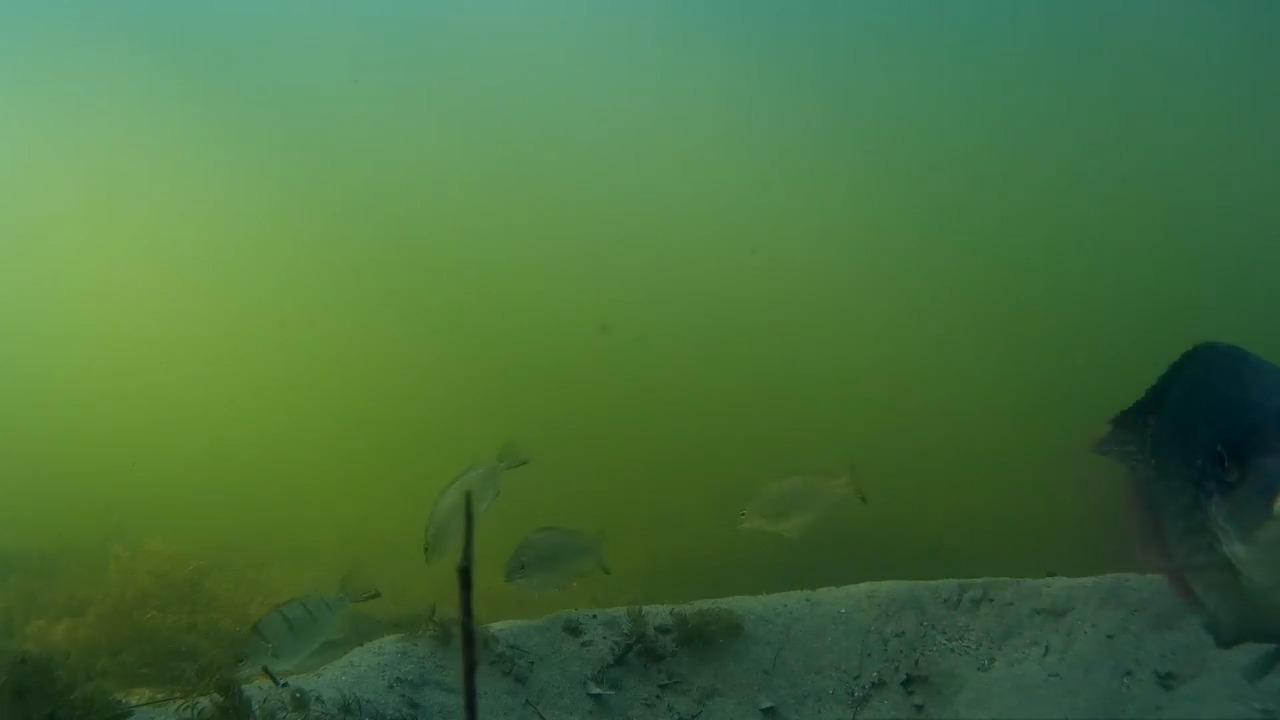Tilapia: (1081, 338, 1277, 608), (397, 392, 534, 564), (242, 570, 409, 710), (719, 466, 882, 544), (490, 522, 617, 610)
